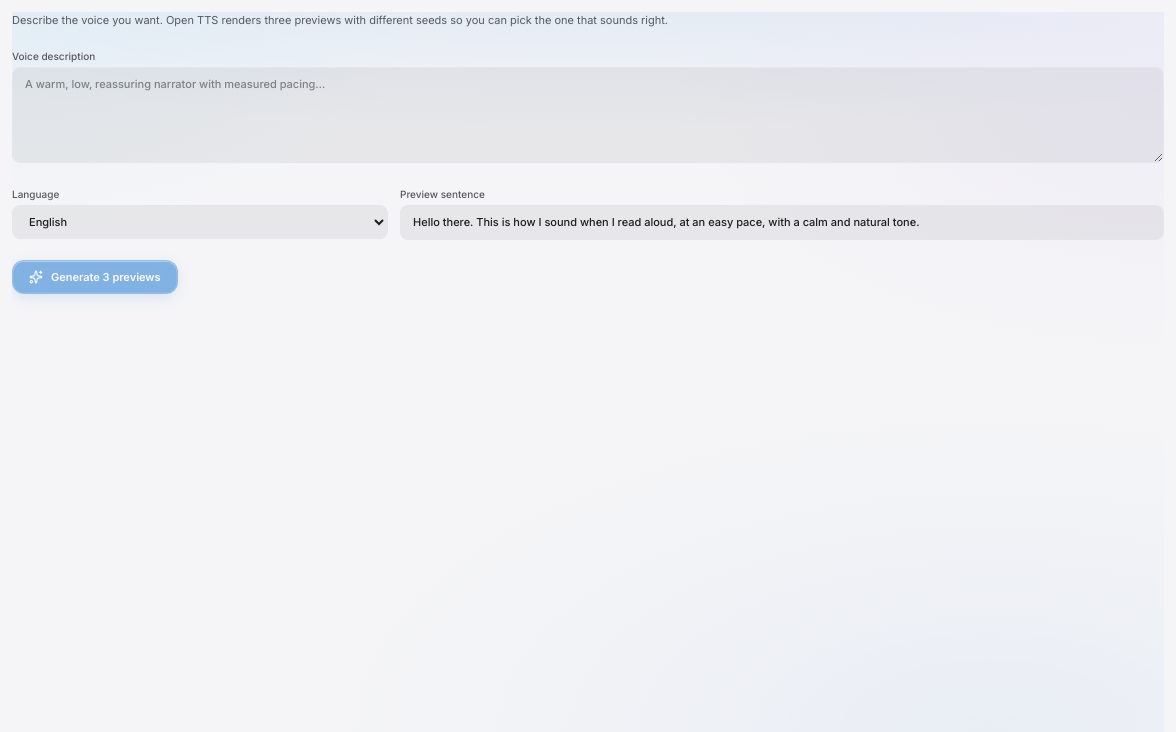
Test: VoiceDesignPanel › keeps a failed preview from blocking the others
Type "Bright and quick" into the text box labelled "Voice description" at (588, 115), box 12,67 -> 1164,163
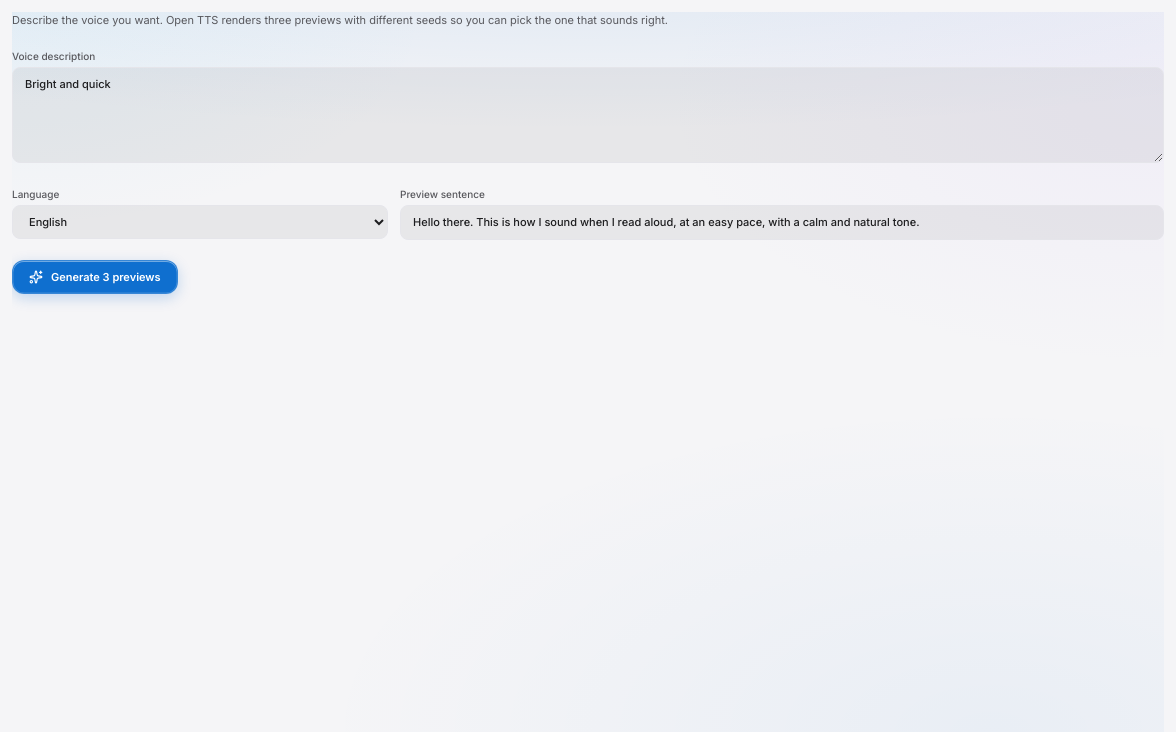
Click the button "Generate 3 previews" at (95, 277), box 12,260 -> 178,294
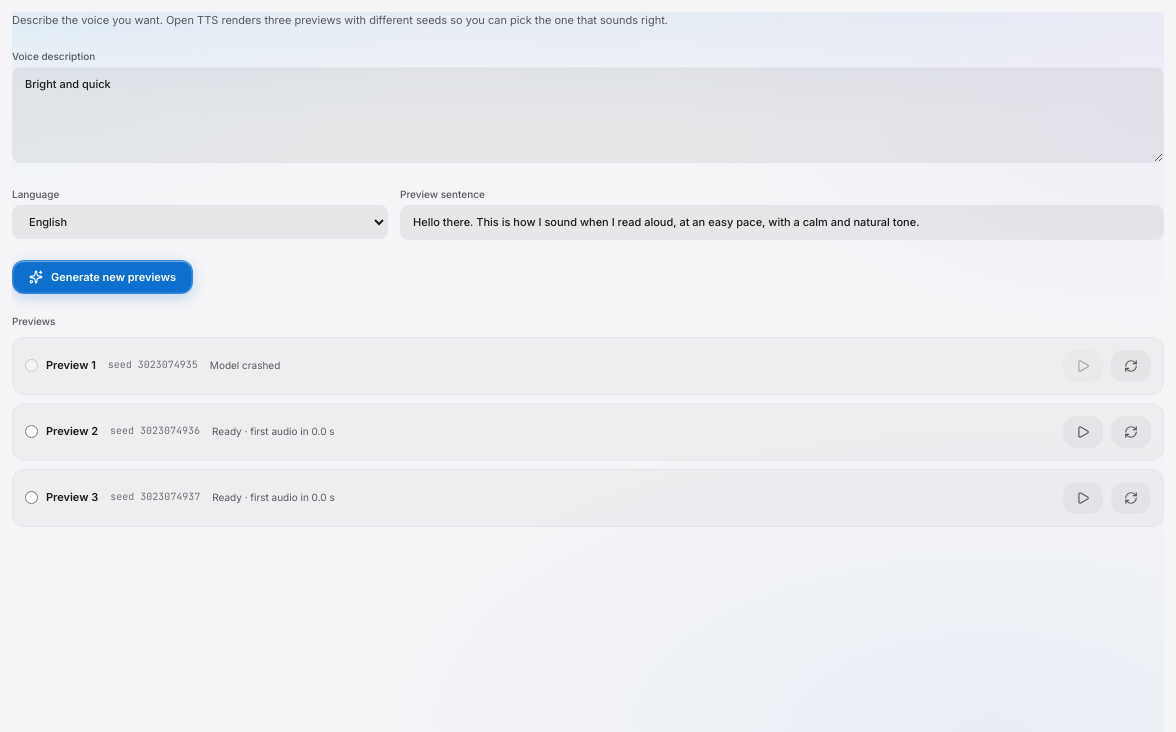
Now the text "Model crashed" is shown, box 210,358 -> 280,373
Now the text "Ready · first audio in 0.0 s" is shown 2 times, box 212,424 -> 335,439; 212,490 -> 335,505
Now the radio button with aria-label "Choose preview 1" is disabled, box 25,359 -> 38,372
